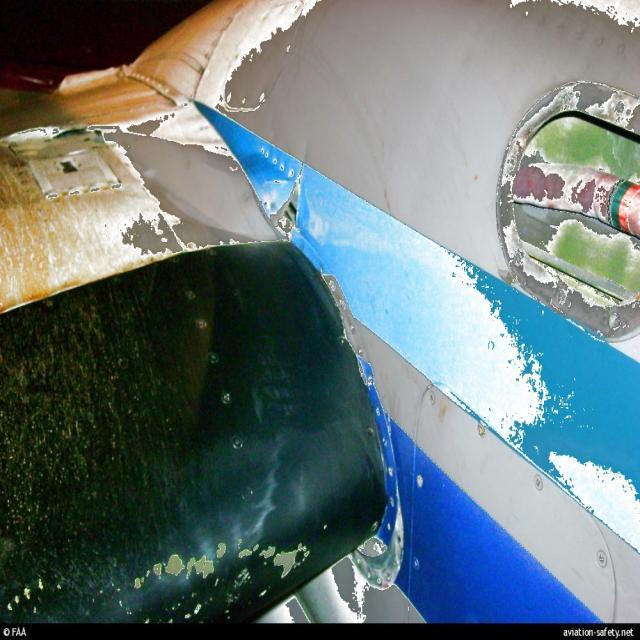crack: (268, 160, 304, 240)
